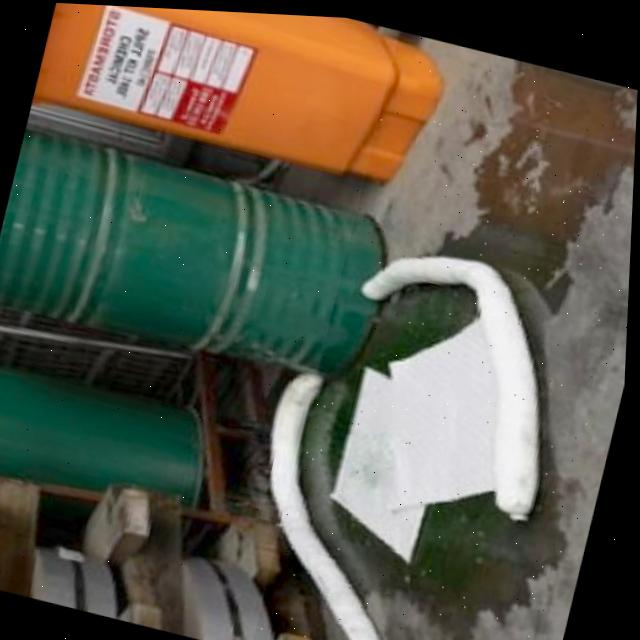spillage: (304, 58, 638, 640)
